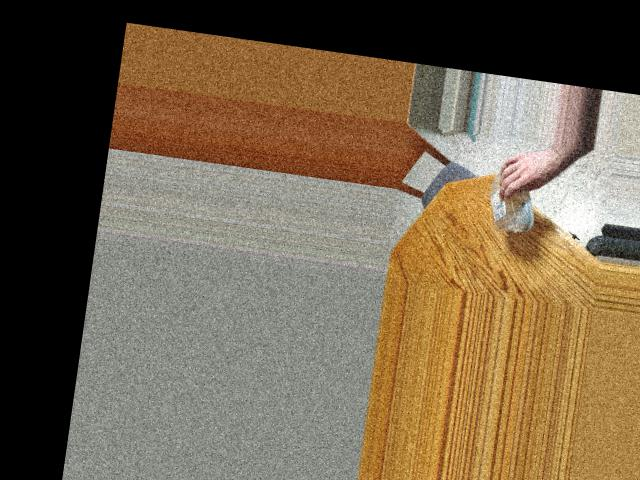cheese: (489, 157, 543, 217)
